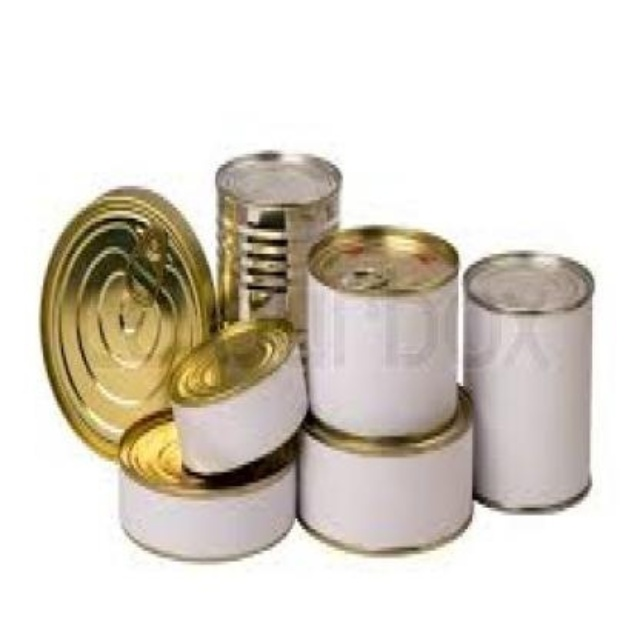trash: (42, 152, 471, 558), (42, 188, 212, 457), (465, 252, 592, 508), (308, 226, 457, 435), (298, 388, 471, 551), (118, 411, 295, 558), (215, 151, 340, 342), (172, 320, 305, 474)
